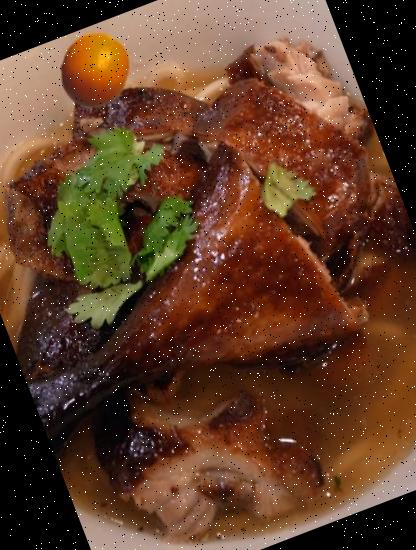Grapefruit: (45, 21, 143, 119)
